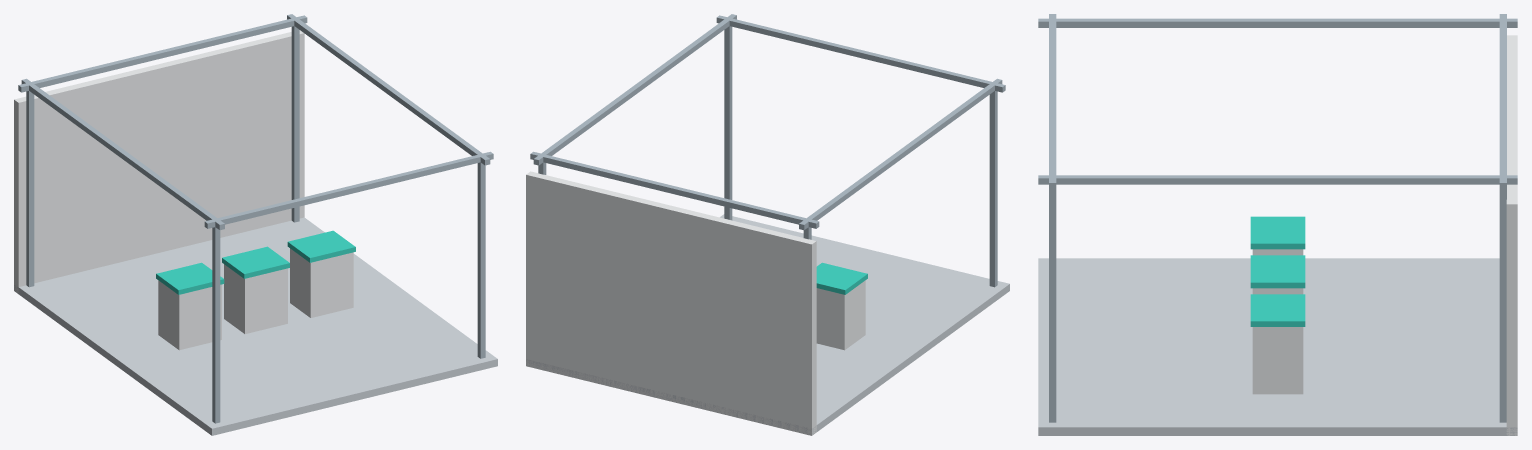
The picture shows the model from 3 angles, left to right: view 1: azimuth 30°, elevation 25°; view 2: azimuth 150°, elevation 25°; view 3: azimuth 270°, elevation 25°; orthographic projection. The views are drawn at different scales.
Parts seen in each view (by area): view 1: Exhibition Booth Concept; view 2: Exhibition Booth Concept; view 3: Exhibition Booth Concept.
Boxes of the visible parts, <box> form: Exhibition Booth Concept: <box>14,14,497,435</box>; Exhibition Booth Concept: <box>526,14,1009,435</box>; Exhibition Booth Concept: <box>1038,14,1517,435</box>.
Size of the model in its own units: 5 by 3.49 by 6.
